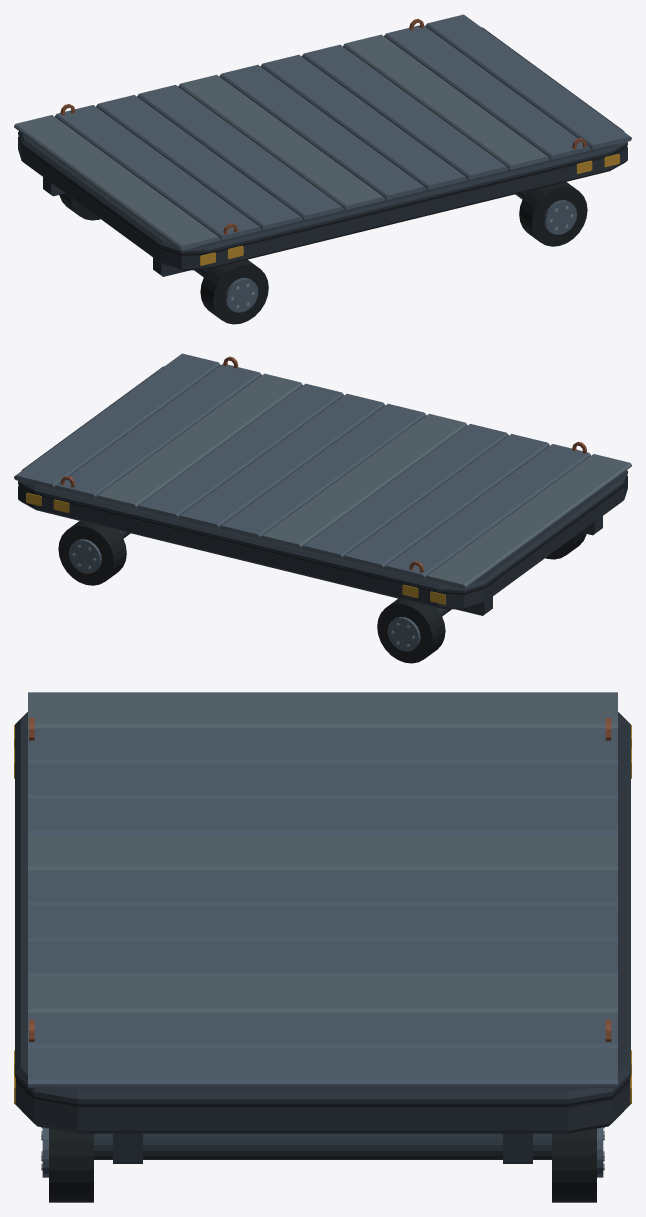
Rendered from A-15_cargo_cart.glb.
3 views of the same model, one above another, from view 1: azimuth 30°, elevation 25°; view 2: azimuth 150°, elevation 25°; view 3: azimuth 270°, elevation 25° (orthographic). The views are drawn at different scales.
Parts seen in each view (by area): view 1: A-15_cargo_cart; view 2: A-15_cargo_cart; view 3: A-15_cargo_cart.
Part boxes in pixels (box(x1,y1,x2,y2)): A-15_cargo_cart: box(14, 14, 631, 324); A-15_cargo_cart: box(14, 353, 631, 663); A-15_cargo_cart: box(14, 692, 631, 1202).
Bounding box in the file's own units: 3.7 × 0.8134 × 2.41.
